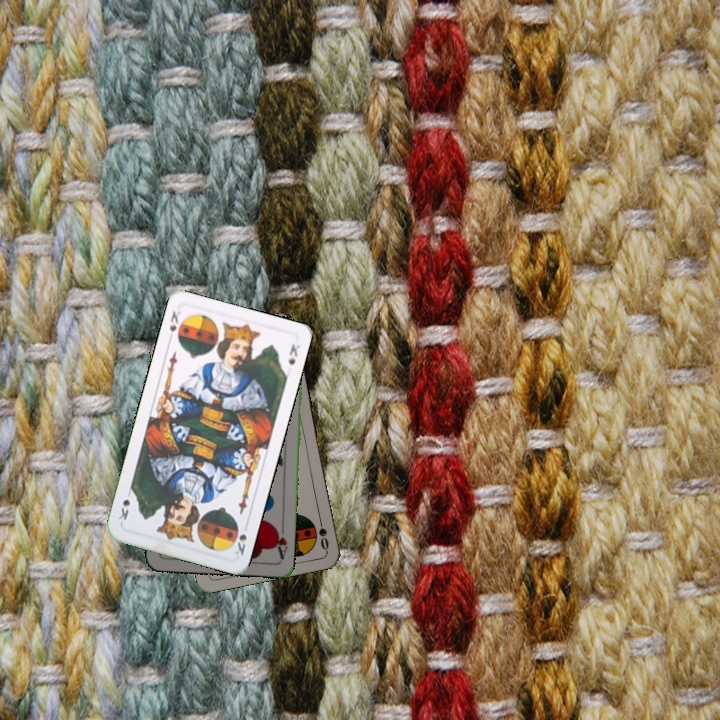HA: (270, 521, 290, 562)
SK: (165, 307, 187, 344), (231, 519, 251, 558)
SO: (314, 512, 331, 553)
